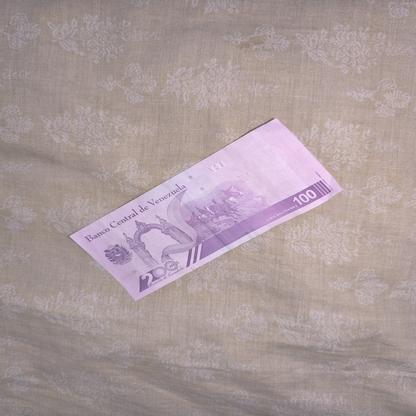one_hundred-back-vef: (68, 116, 342, 302)
